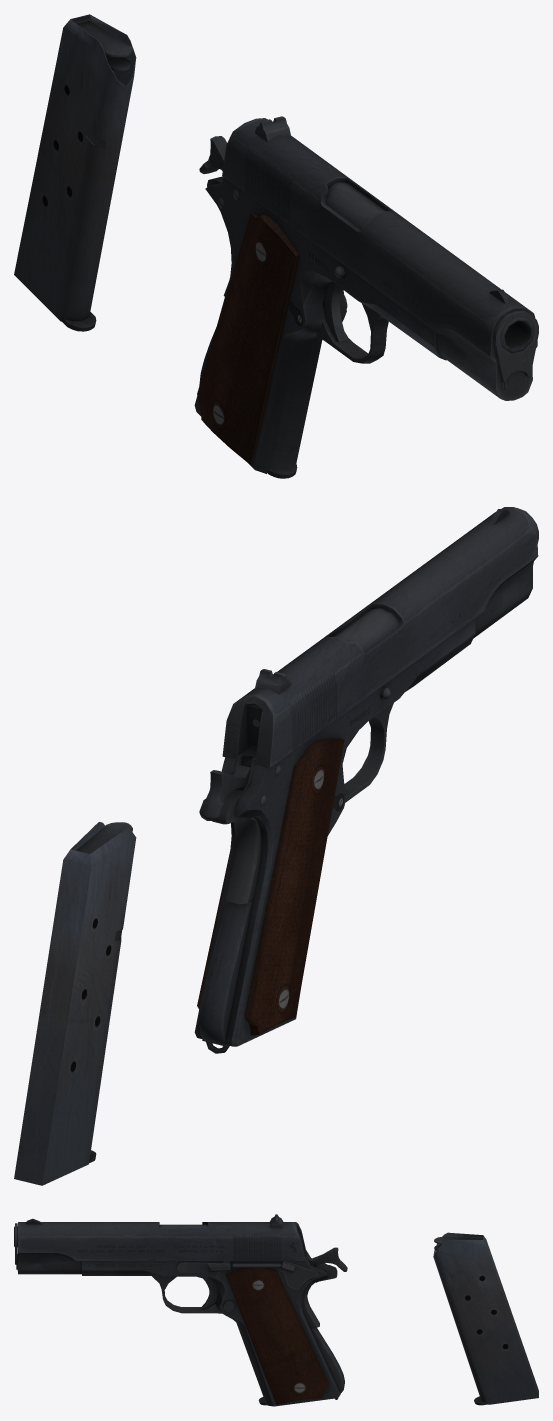
Rendered from low_poly_publish.FBX.
3 renders of one model, top to bottom at view 1: azimuth 30°, elevation 25°; view 2: azimuth 150°, elevation 25°; view 3: azimuth 270°, elevation 25°, orthographic. The views are drawn at different scales.
Visible parts, largest first — view 1: low_poly, Object001; view 2: low_poly, Object001; view 3: low_poly, Object001.
Boxes of the visible parts, x1,y1,x2,y2 form: low_poly: (194, 116, 538, 478); Object001: (14, 14, 136, 331); low_poly: (194, 507, 538, 1053); Object001: (14, 822, 136, 1185); low_poly: (14, 1214, 347, 1406); Object001: (433, 1232, 538, 1405).
Bounding box in the file's own units: 11.9 × 58.42 × 150.
